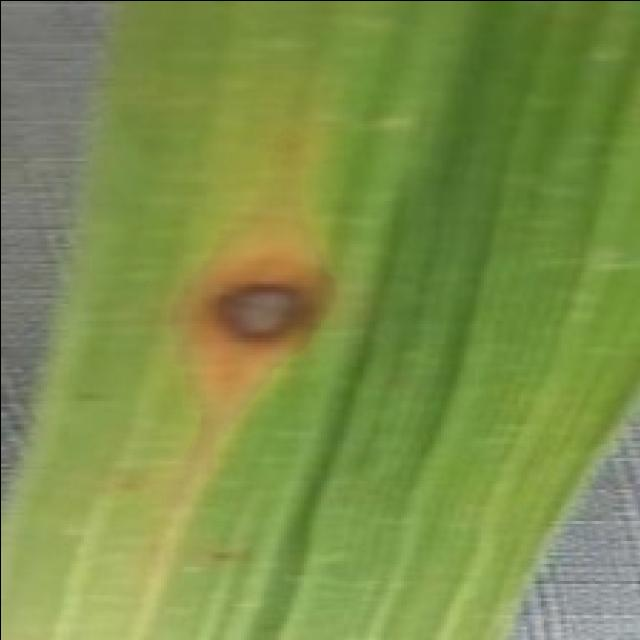Unhealthy: (181, 234, 337, 484)
